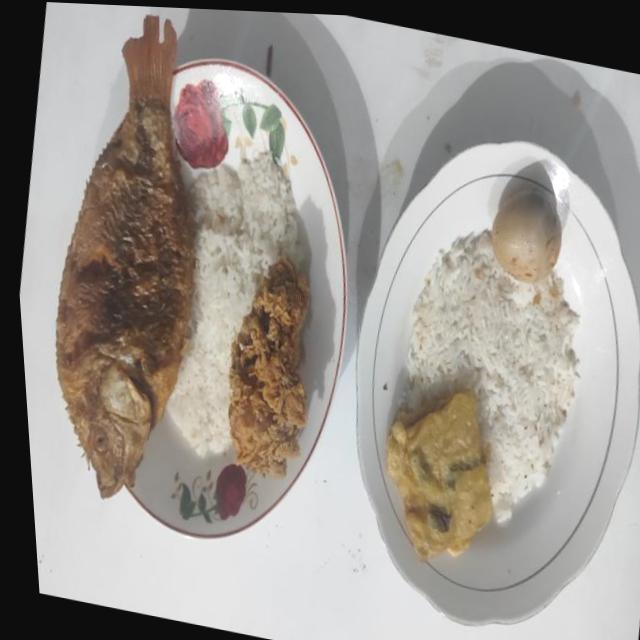ikan_mujair: (56, 16, 195, 498)
nasi_putih: (399, 229, 579, 522), (171, 156, 303, 455)
